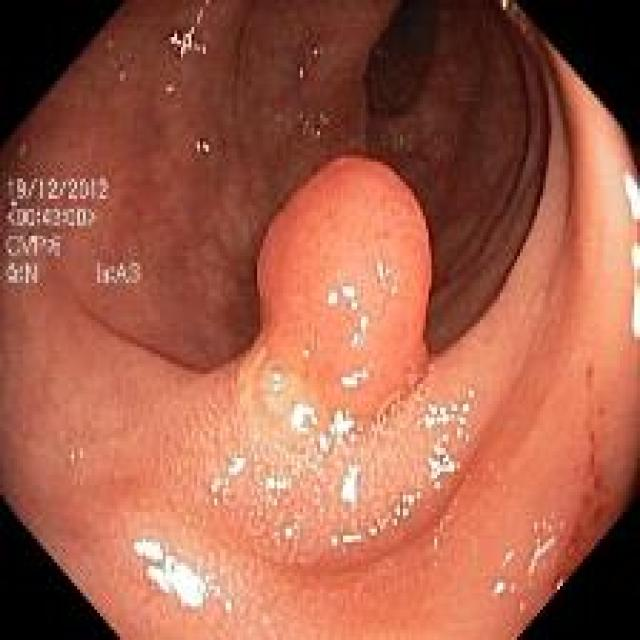Polyps: (252, 156, 432, 425)
